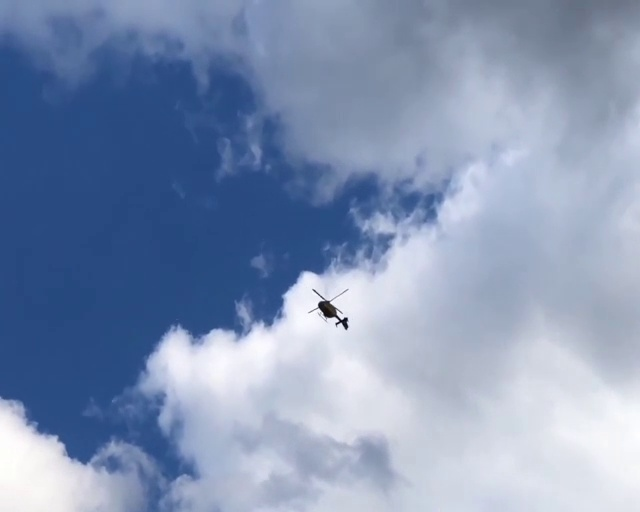HELICOPTER: (308, 286, 350, 330)
